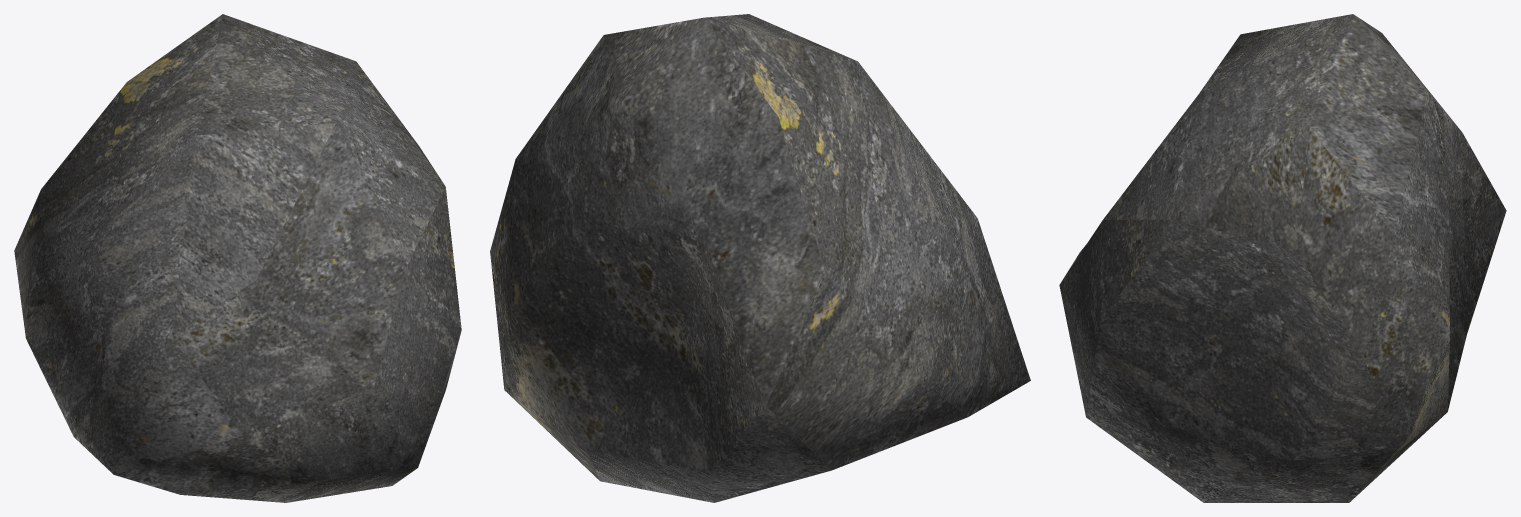
Rendered from Rock.fbx.
The picture shows the model from 3 angles, left to right: view 1: azimuth 30°, elevation 25°; view 2: azimuth 150°, elevation 25°; view 3: azimuth 270°, elevation 25°; orthographic projection. The views are drawn at different scales.
Visible parts, largest first — view 1: Icosphere; view 2: Icosphere; view 3: Icosphere.
Boxes of the visible parts, box(x1,y1,x2,y2) form: Icosphere: box(14, 14, 461, 502); Icosphere: box(490, 14, 1030, 502); Icosphere: box(1059, 14, 1506, 502).
Size of the model in its own units: 191 by 207 by 190.
